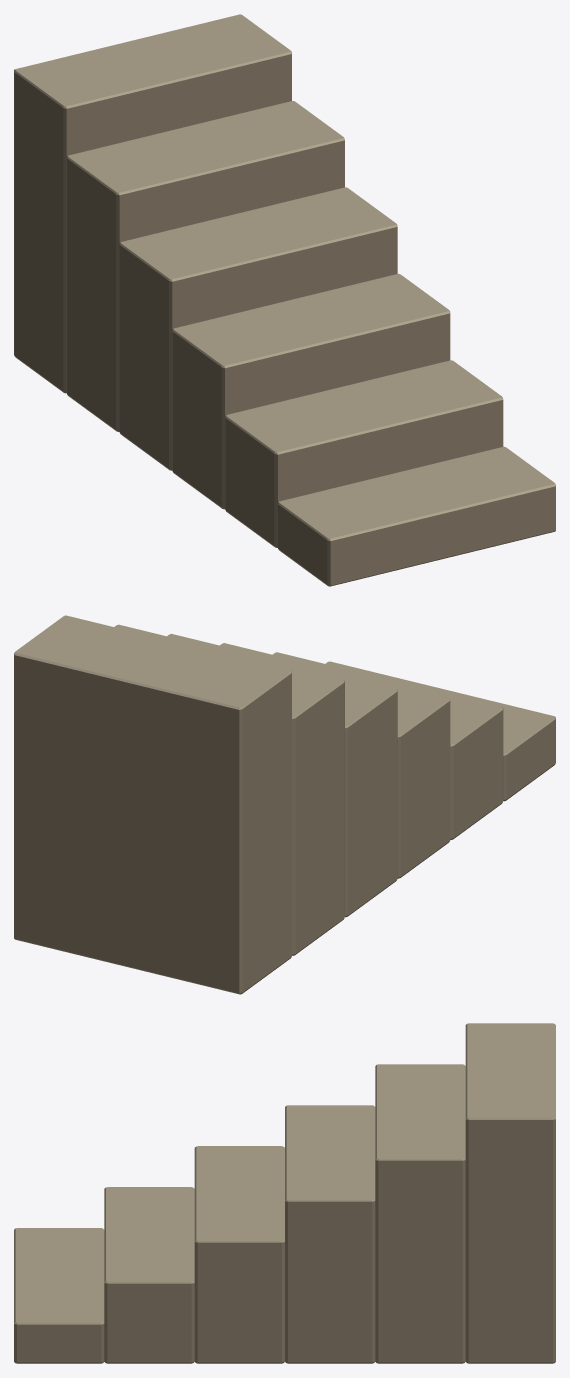
File: stair-narrow.glb
The picture shows the model from 3 angles, top to bottom: view 1: azimuth 30°, elevation 25°; view 2: azimuth 150°, elevation 25°; view 3: azimuth 270°, elevation 25°; orthographic projection. The views are drawn at different scales.
Visible parts, largest first — view 1: stair-narrow__body; view 2: stair-narrow__body; view 3: stair-narrow__body.
Boxes of the visible parts, <box> form: stair-narrow__body: <box>14,14,555,586</box>; stair-narrow__body: <box>14,615,555,994</box>; stair-narrow__body: <box>14,1023,555,1363</box>.
Size of the model in its own units: 1 by 1.2 by 2.4.
